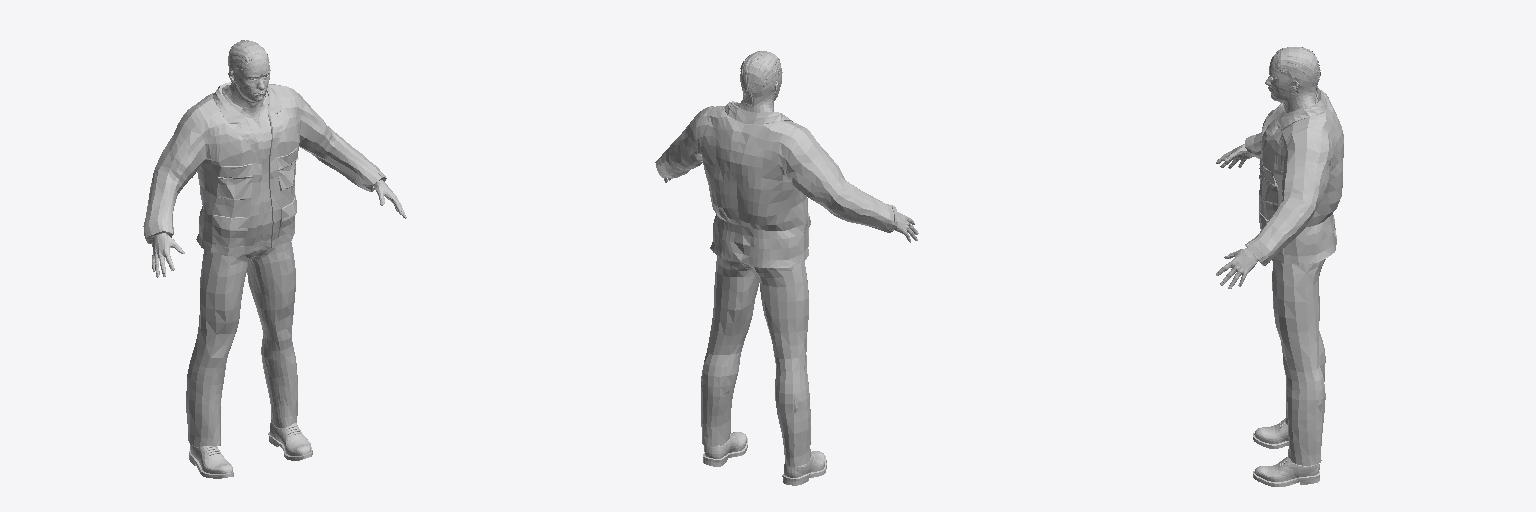
3 renders of one model, left to right at view 1: azimuth 30°, elevation 25°; view 2: azimuth 150°, elevation 25°; view 3: azimuth 270°, elevation 25°, orthographic.
Parts seen in each view (by area): view 1: Ml1:Male_casualsuit05, Ml1:Body, Ml1:Shoes03, Ml1:Short04; view 2: Ml1:Male_casualsuit05, Ml1:Short04, Ml1:Shoes03, Ml1:Body; view 3: Ml1:Male_casualsuit05, Ml1:Body, Ml1:Shoes03, Ml1:Short04.
Part boxes in pixels (x1,y1,x2,y2): Ml1:Male_casualsuit05: (143, 82, 386, 446); Ml1:Body: (152, 61, 406, 277); Ml1:Shoes03: (189, 420, 312, 478); Ml1:Short04: (228, 40, 269, 85); Ml1:Male_casualsuit05: (655, 101, 898, 466); Ml1:Short04: (740, 51, 781, 107); Ml1:Shoes03: (703, 432, 826, 485); Ml1:Body: (664, 72, 918, 242); Ml1:Male_casualsuit05: (1245, 87, 1343, 465); Ml1:Body: (1216, 59, 1316, 288); Ml1:Shoes03: (1253, 418, 1319, 486); Ml1:Short04: (1272, 47, 1320, 95).
Size of the model in its own units: 1.31 by 2.08 by 0.5843.